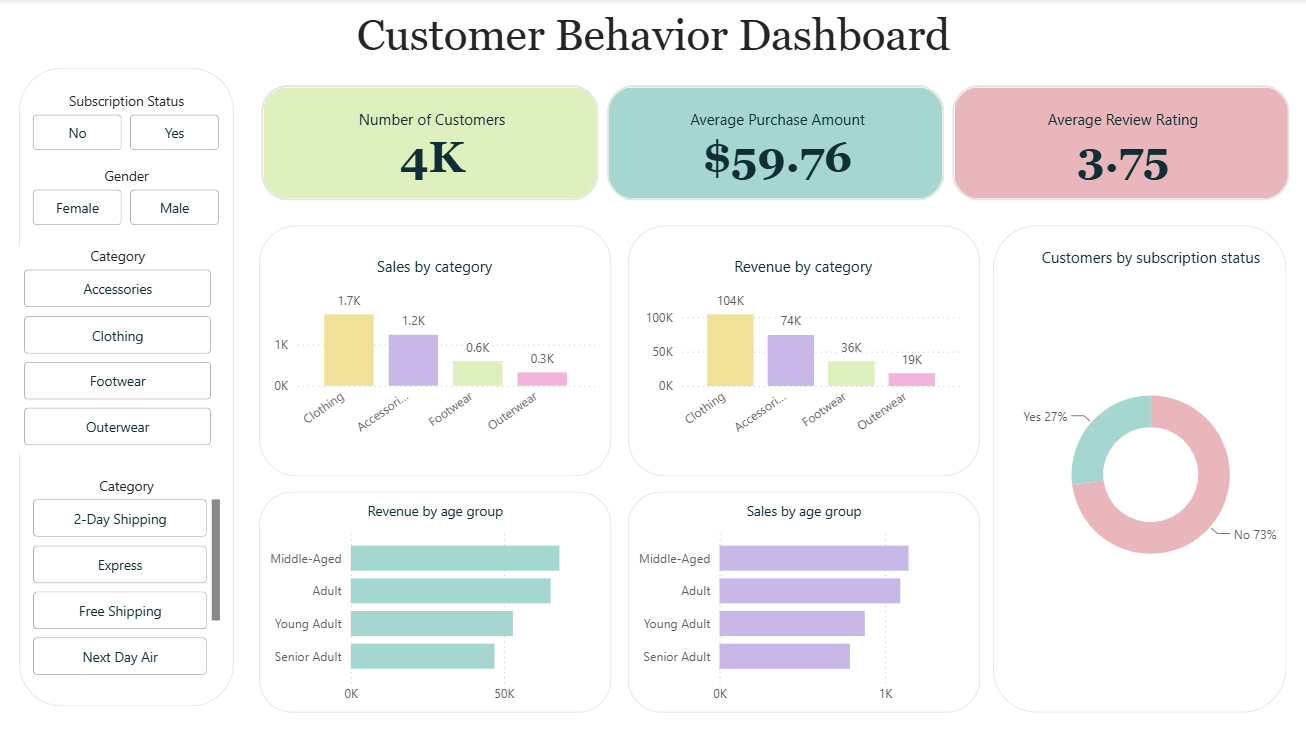

The page's visual inventory and layout, read from the dashboard file:
{"tool":"powerbi","page":{"name":"Page 1","canvas":[1280,720],"ordinal":0},"visuals":[{"type":"cardVisual","fields":{"Data":["public customer.Number of Customers","public customer.Average Purchase Amount","public customer.Average Review Rating"]},"box":[239.7,67.3,1040.6,148],"z":0},{"type":"textbox","box":[0,0,1280.3,67.3],"z":1000},{"type":"shape","box":[972.2,221.3,287.4,476.9],"z":2000},{"type":"donutChart","title":"Customers by subscription status","fields":{"Category":["public customer.subscription_status"],"Y":["CountNonNull(public customer.customer_id)"]},"box":[981.9,242.1,289.8,426.8],"z":3000},{"type":"shape","box":[254.3,221.3,344.8,245.8],"z":4000},{"type":"clusteredColumnChart","title":"Revenue by category","fields":{"Y":["Sum(public customer.purchase_amount)"],"Category":["public customer.category"]},"box":[627.3,250.7,319.2,187.1],"z":5000},{"type":"clusteredColumnChart","title":"Sales by category","fields":{"Y":["CountNonNull(public customer.customer_id)"],"Category":["public customer.category"]},"box":[264.1,250.7,324.1,185.9],"z":6000},{"type":"shape","box":[19.6,67.3,210.3,624.9],"z":7000},{"type":"advancedSlicerVisual","title":"Subscription Status","fields":{"Values":["public customer.subscription_status"]},"box":[28.1,90.5,193.2,63.6],"z":8000},{"type":"advancedSlicerVisual","title":"Gender","fields":{"Values":["public customer.gender"]},"box":[28.1,163.9,193.2,63.6],"z":9000},{"type":"advancedSlicerVisual","title":"Category","fields":{"Values":["public customer.category"]},"box":[19.6,242.1,193.2,201.8],"z":10000},{"type":"advancedSlicerVisual","title":"Category","fields":{"Values":["public customer.shipping_type"]},"box":[28.1,467.1,193.2,201.8],"z":11000},{"type":"shape","box":[615.1,221.3,344.8,245.8],"z":12000},{"type":"shape","box":[254.3,481.8,344.8,216.4],"z":12001},{"type":"shape","box":[615.1,481.8,344.8,216.4],"z":12002},{"type":"clusteredBarChart","title":"Revenue by age group","fields":{"Y":["Sum(public customer.purchase_amount)"],"Category":["public customer.age_group"]},"box":[254.3,491.6,344.8,206.7],"z":12003},{"type":"clusteredBarChart","title":"Sales by age group","fields":{"Y":["CountNonNull(public customer.customer_id)"],"Category":["public customer.age_group"]},"box":[615.1,491.6,344.8,206.7],"z":12004}]}

Visuals, with their boxes in screenshot pixels (x1, y1, x2, y2), scaled from the page's 1280x720 canvas onto the 1306x734 screenshot:
cardVisual - public customer.Number of Customers x public customer.Average Purchase Amount: bbox=(245, 69, 1305, 219)
textbox: bbox=(0, 0, 1305, 69)
shape: bbox=(992, 226, 1285, 712)
"Customers by subscription status" donutChart: bbox=(1002, 247, 1298, 682)
shape: bbox=(259, 226, 611, 476)
"Revenue by category" clusteredColumnChart: bbox=(640, 256, 966, 446)
"Sales by category" clusteredColumnChart: bbox=(269, 256, 600, 445)
shape: bbox=(20, 69, 235, 706)
"Subscription Status" advancedSlicerVisual: bbox=(29, 92, 226, 157)
"Gender" advancedSlicerVisual: bbox=(29, 167, 226, 232)
"Category" advancedSlicerVisual: bbox=(20, 247, 217, 453)
"Category" advancedSlicerVisual: bbox=(29, 476, 226, 682)
shape: bbox=(628, 226, 979, 476)
shape: bbox=(259, 491, 611, 712)
shape: bbox=(628, 491, 979, 712)
"Revenue by age group" clusteredBarChart: bbox=(259, 501, 611, 712)
"Sales by age group" clusteredBarChart: bbox=(628, 501, 979, 712)
